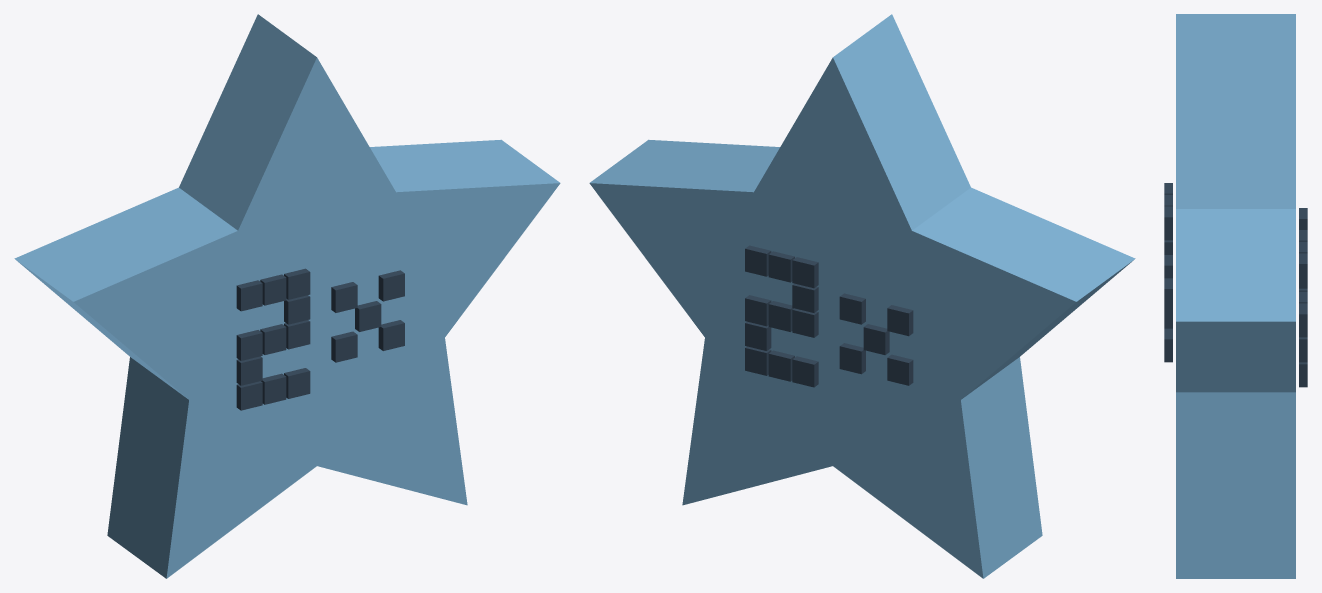
Rendered from score.glb.
3 views of the same model, side by side, from view 1: azimuth 30°, elevation 25°; view 2: azimuth 150°, elevation 25°; view 3: azimuth 270°, elevation 25° (orthographic).
Visible parts, largest first — view 1: score; view 2: score; view 3: score.
Boxes of the visible parts, x1=… form: score: x1=14, y1=14, x2=560, y2=578; score: x1=589, y1=14, x2=1135, y2=578; score: x1=1164, y1=14, x2=1307, y2=578.
Bounding box in the file's own units: 0.7608 × 0.7236 × 0.192.
